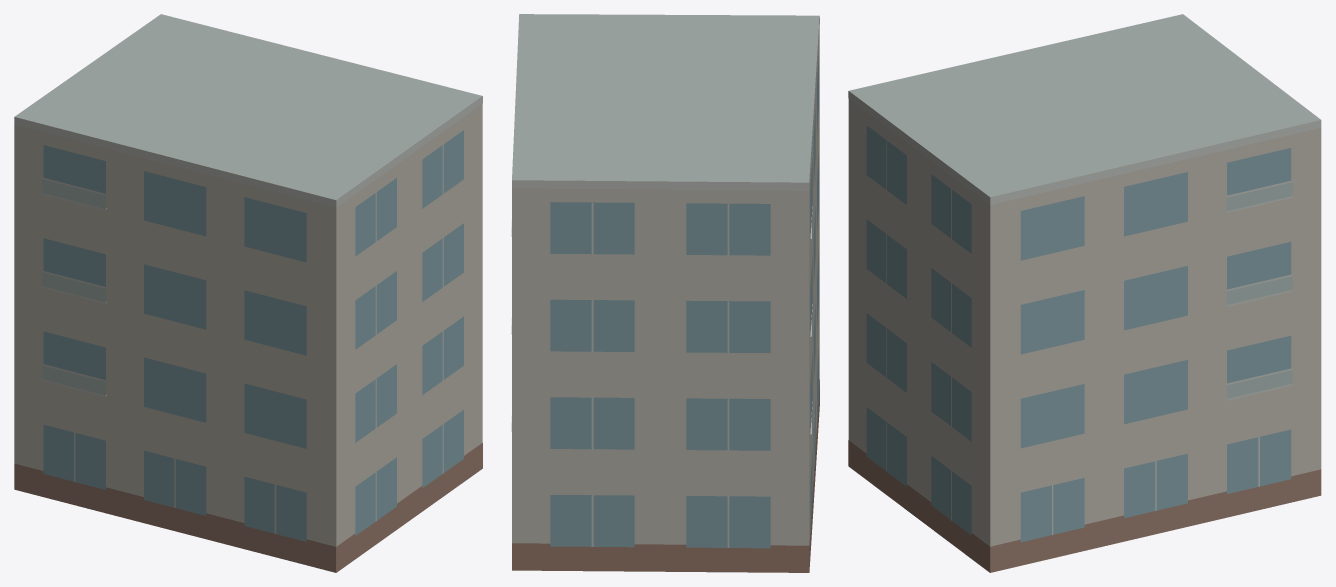
The model's file is survey-upis-32695309.glb.
3 renders of one model, left to right at view 1: azimuth 30°, elevation 25°; view 2: azimuth 150°, elevation 25°; view 3: azimuth 270°, elevation 25°, orthographic. The views are drawn at different scales.
Parts seen in each view (by area): view 1: survey-upis-32695309.tmp; view 2: survey-upis-32695309.tmp; view 3: survey-upis-32695309.tmp.
Part boxes in pixels (x1,y1,x2,y2): survey-upis-32695309.tmp: (14,14,482,572); survey-upis-32695309.tmp: (511,14,819,572); survey-upis-32695309.tmp: (848,14,1321,572).
Size of the model in its own units: 12.41 by 11.85 by 13.53.
